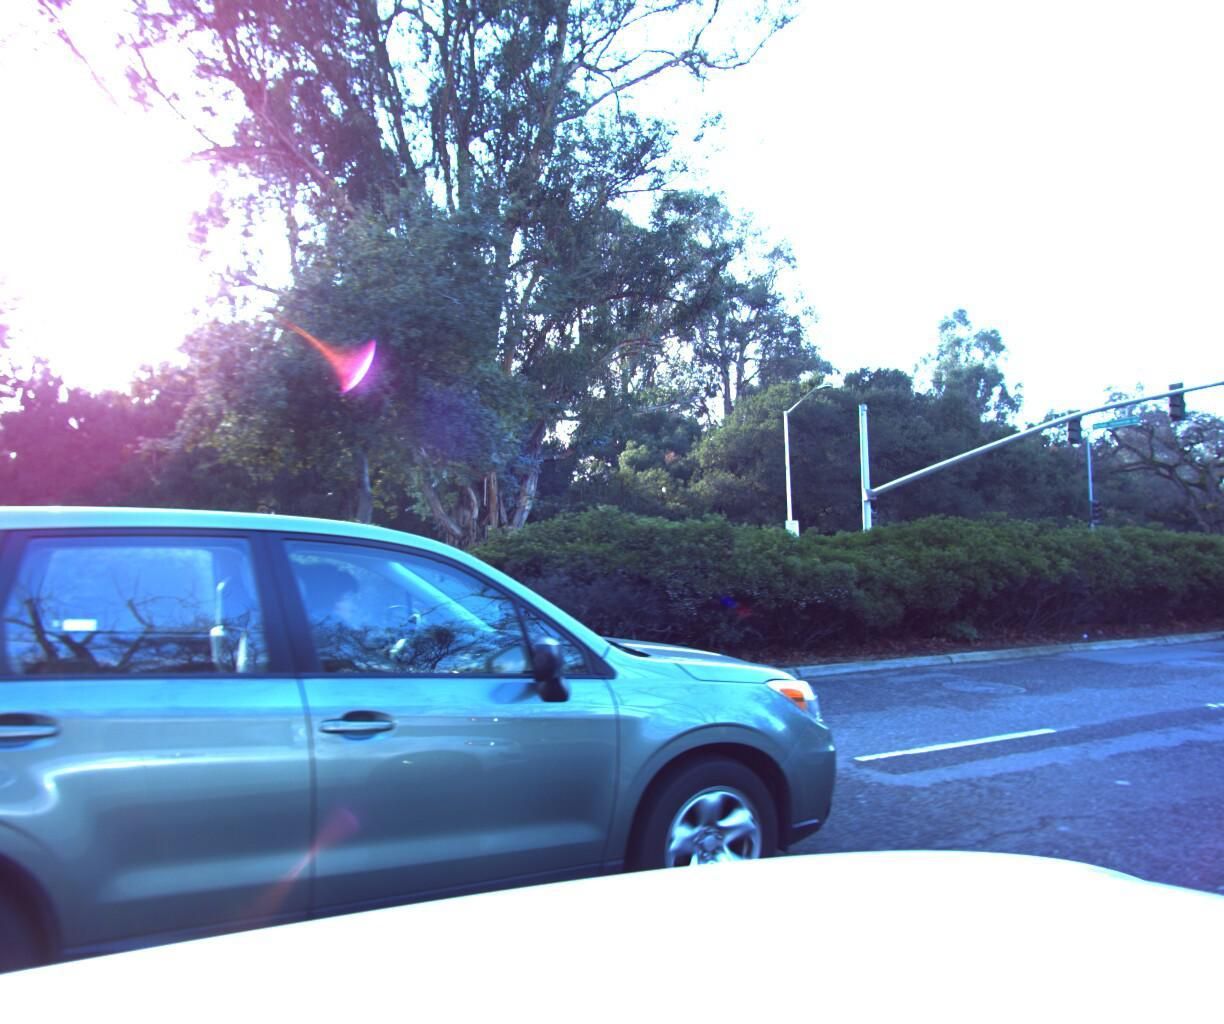car: (0, 463, 894, 1024)
